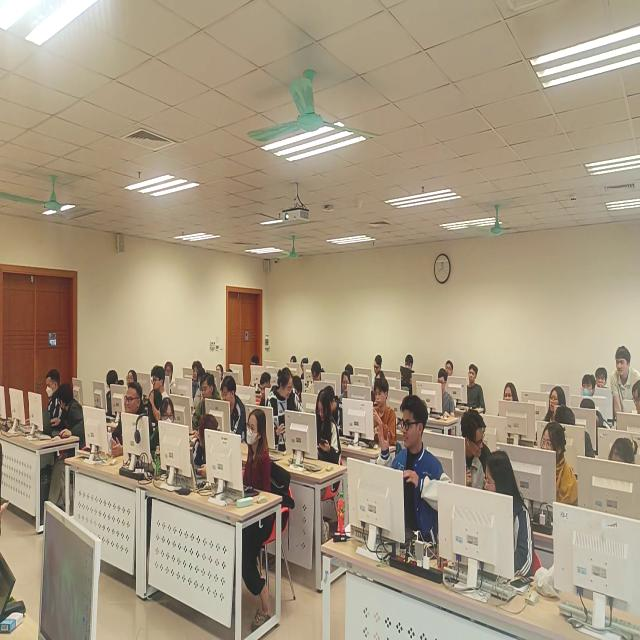raise_hand: (377, 398, 441, 549)
raise_head: (237, 413, 273, 537), (114, 388, 143, 468), (496, 382, 524, 440), (459, 360, 487, 416), (546, 385, 568, 419), (337, 374, 354, 404), (583, 373, 597, 400), (164, 363, 176, 394), (596, 366, 609, 394), (123, 368, 138, 388), (191, 360, 203, 384), (445, 357, 455, 378)
stand: (270, 370, 300, 458), (612, 350, 640, 423)
using_computer: (527, 429, 572, 509), (594, 437, 640, 510), (367, 383, 395, 446), (217, 380, 247, 435), (426, 369, 454, 423), (188, 377, 218, 427), (138, 370, 166, 414), (95, 369, 121, 410), (309, 364, 324, 397), (368, 357, 383, 381)
using_phone: (310, 400, 338, 473)
